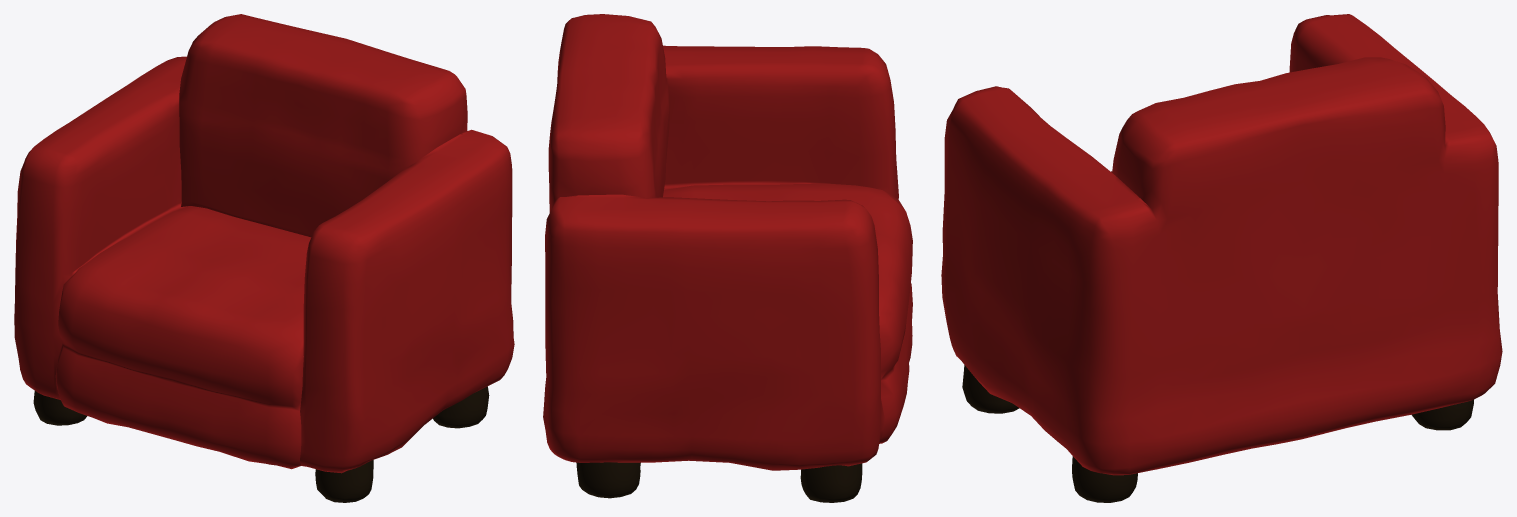
File: chair.glb
3 renders of one model, left to right at view 1: azimuth 30°, elevation 25°; view 2: azimuth 150°, elevation 25°; view 3: azimuth 270°, elevation 25°, orthographic. The views are drawn at different scales.
Visible parts, largest first — view 1: node_id34; view 2: node_id34; view 3: node_id34.
Part boxes in pixels (x1,y1,x2,y2): node_id34: [14, 14, 514, 502]; node_id34: [543, 14, 912, 502]; node_id34: [941, 14, 1502, 502].
Size of the model in its own units: 0.5435 by 0.4282 by 0.5944.
Materials: 1 (1 with a texture image).
